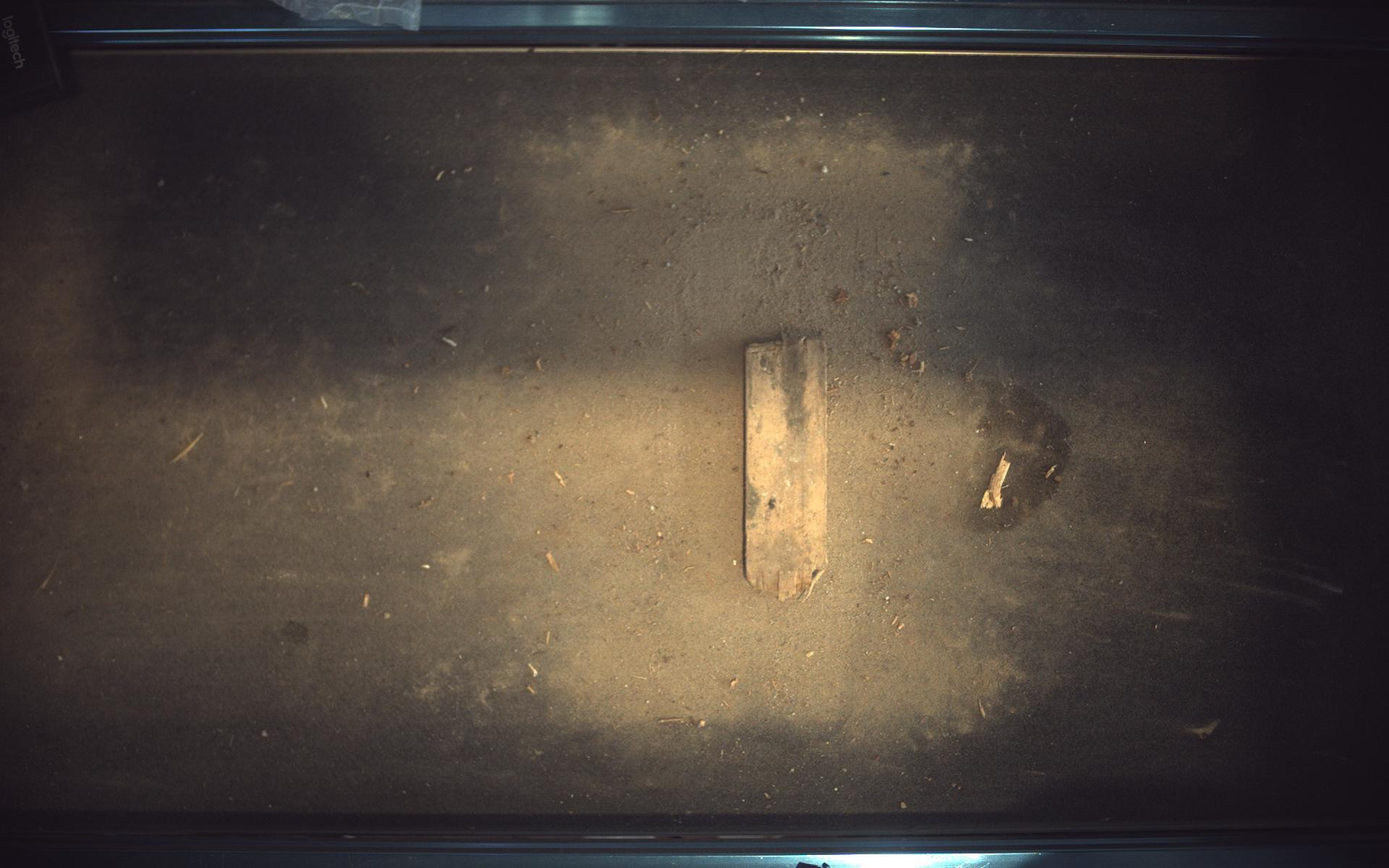wood: (746, 337, 829, 600)
